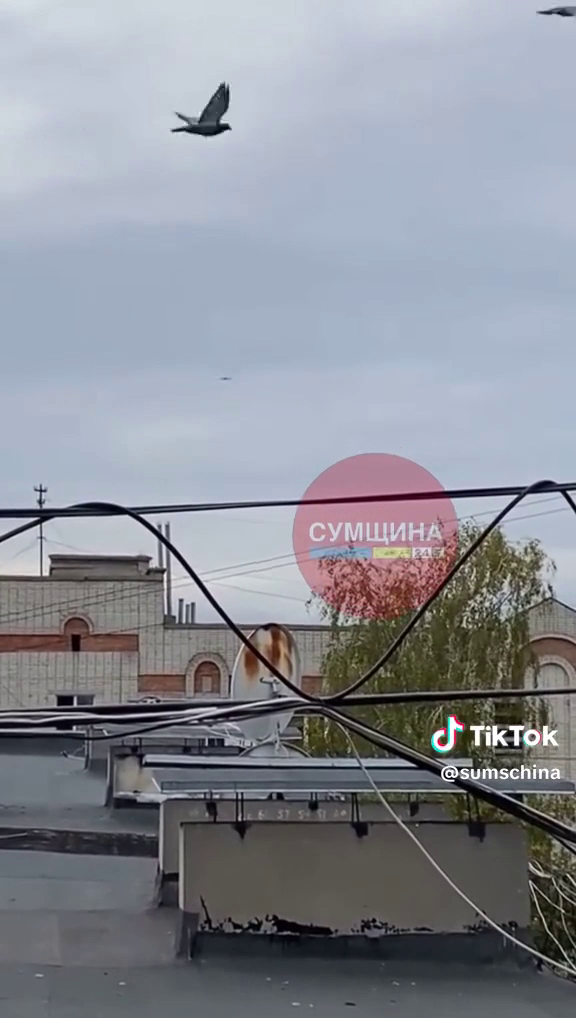not_drone: (160, 61, 253, 159)
